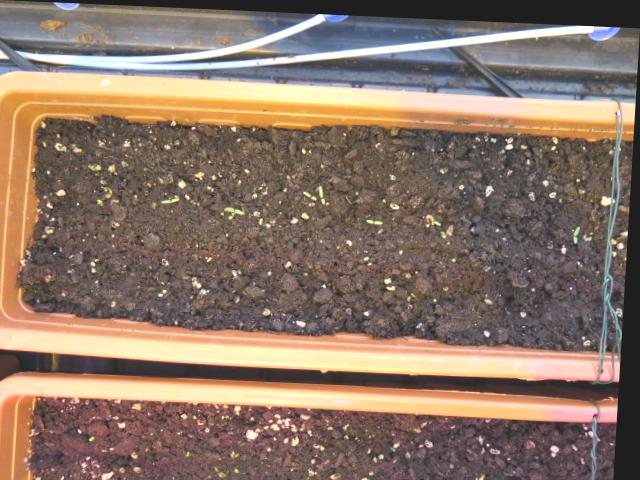crop: (568, 215, 587, 240), (218, 200, 250, 213), (422, 207, 446, 224), (362, 211, 390, 224), (157, 192, 189, 203)
